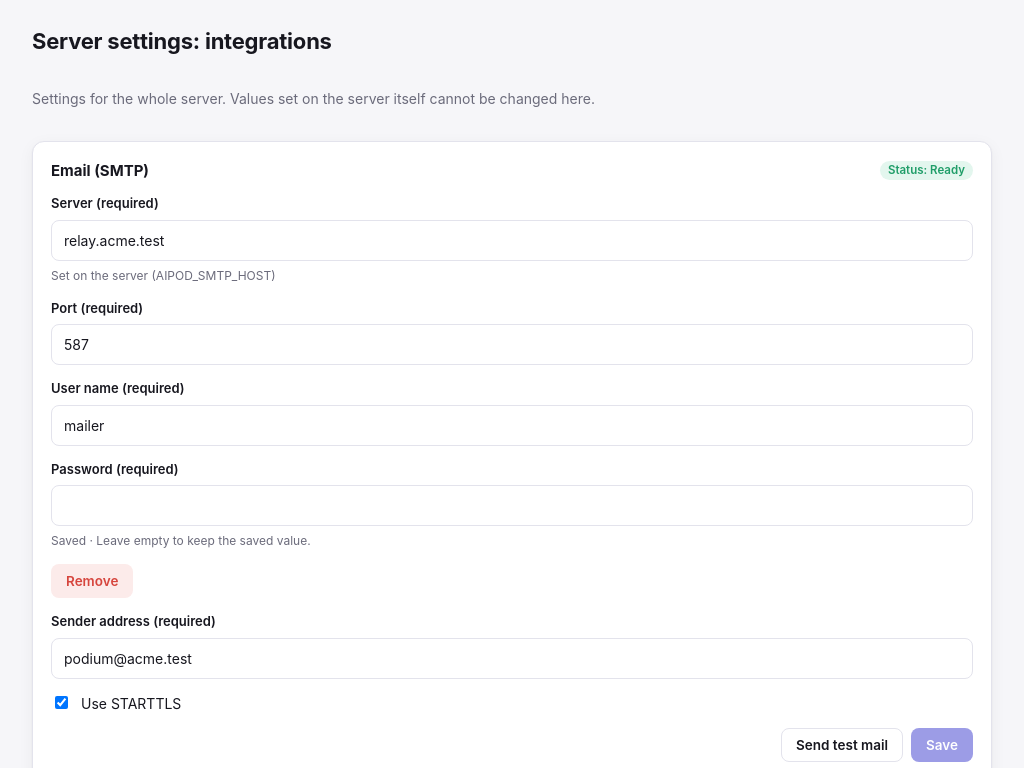
saving an integration › shows a refusal the card has no field for at the top, with the app-wide text of its code
The width and height of the screenshot is (1024, 768).
Type "x" into the field labelled "User name (required)" at (512, 425), box [51,404,973,446]
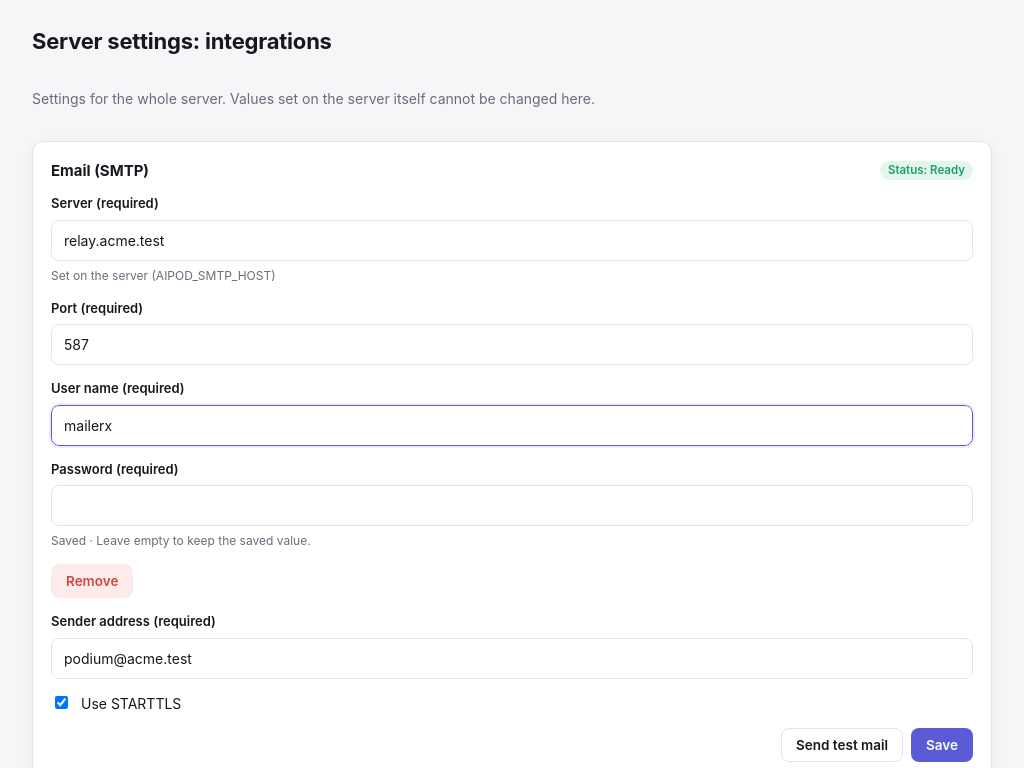
Click the button "Save" at (942, 744), box [911,728,973,762]
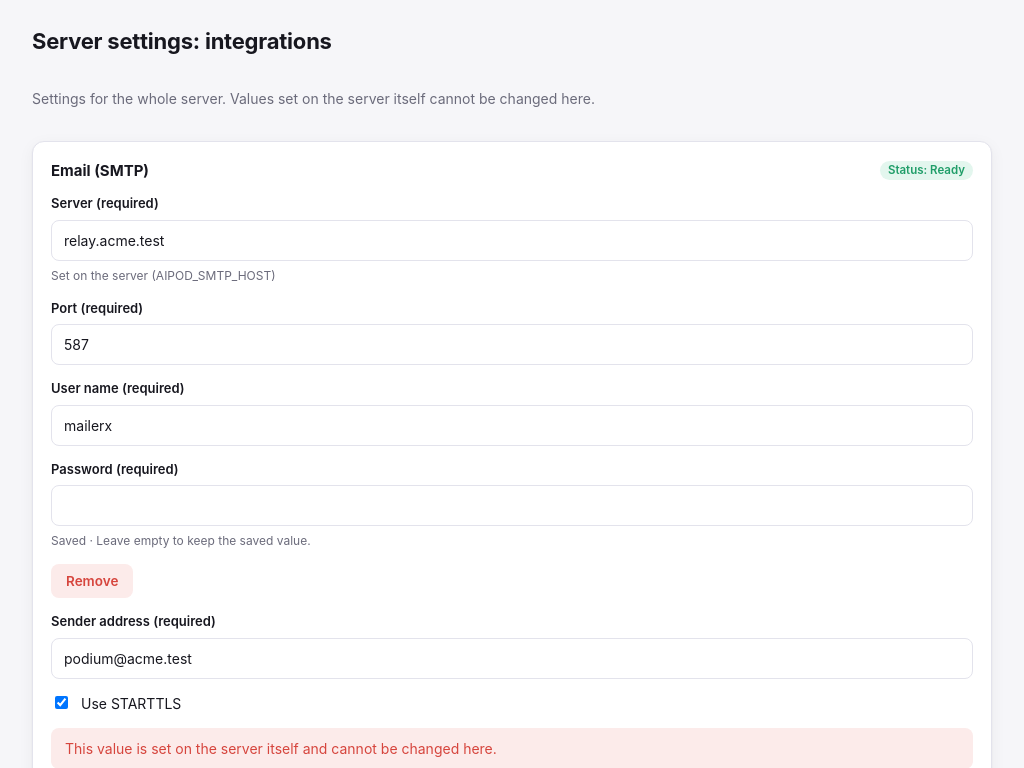
Now the text "This value is set on the server itself and cannot be changed here." is shown, box [51,728,973,767]
